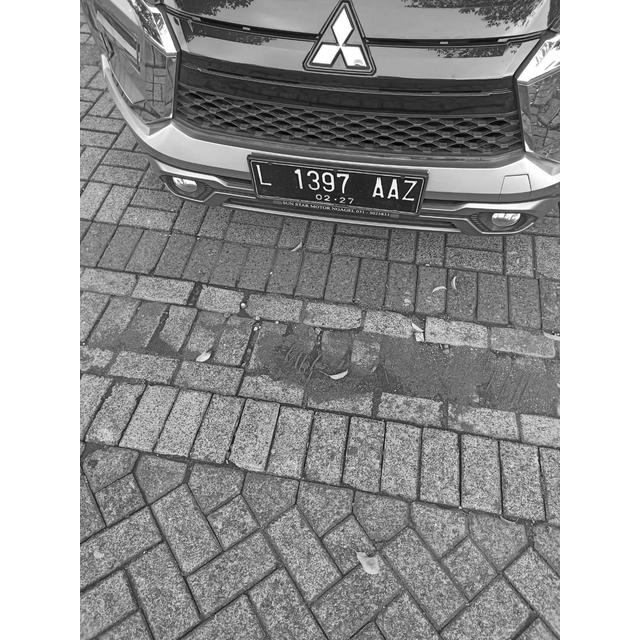license: (251, 160, 426, 210)
